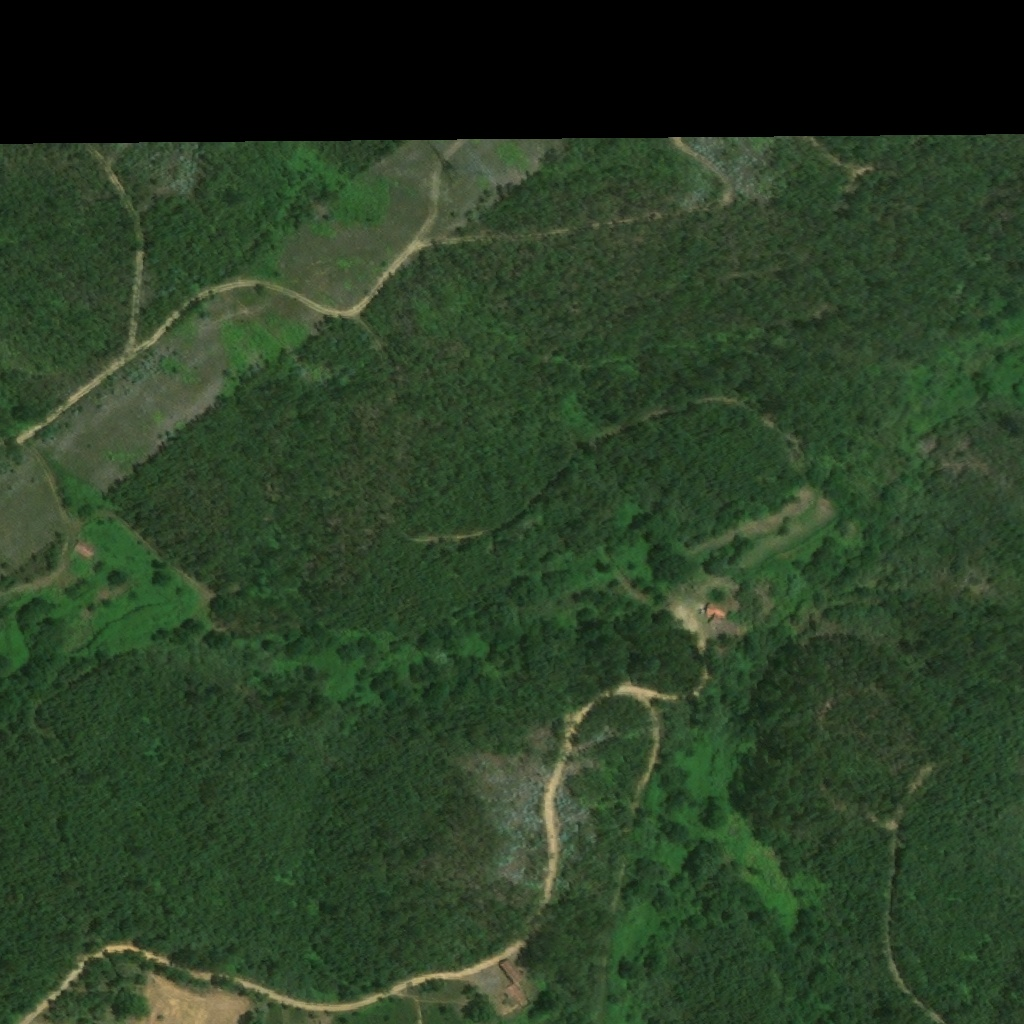0 no-damage: (498, 958, 523, 984), (503, 984, 524, 1008), (71, 539, 96, 559), (697, 605, 724, 620), (705, 619, 723, 631)
4 un-classified: (495, 188, 504, 199), (503, 186, 511, 195), (688, 598, 697, 605)
